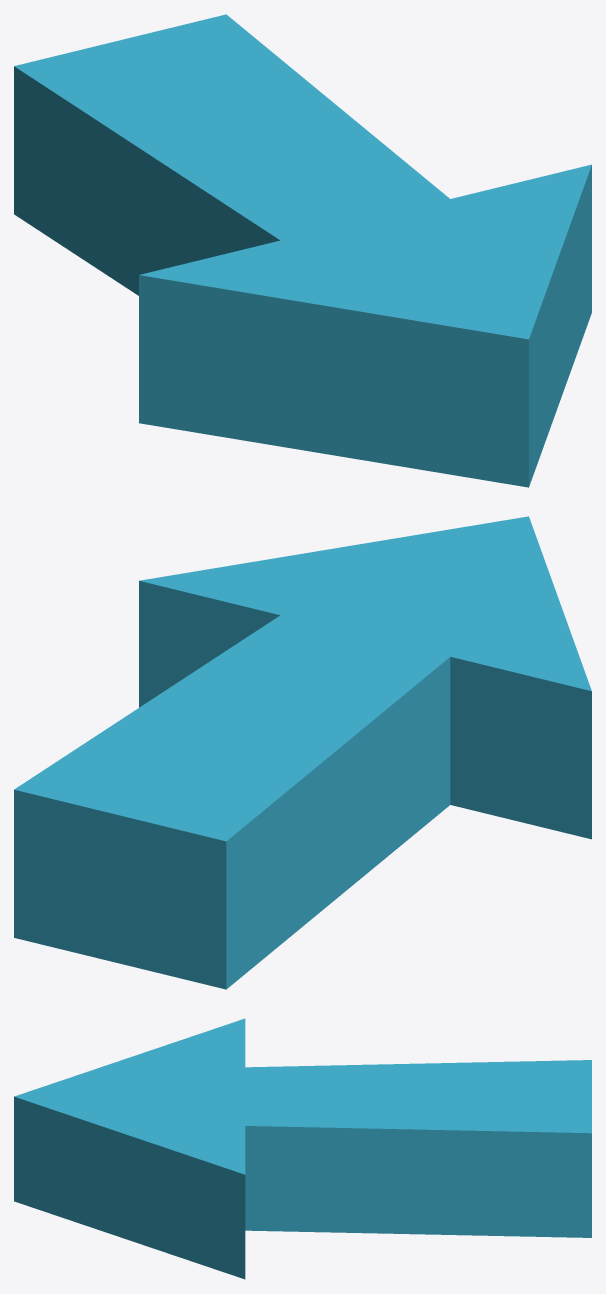
The model's file is allow.fbx.
3 views of the same model, one above another, from view 1: azimuth 30°, elevation 25°; view 2: azimuth 150°, elevation 25°; view 3: azimuth 270°, elevation 25° (orthographic). The views are drawn at different scales.
Visible parts, largest first — view 1: Body1; view 2: Body1; view 3: Body1.
Boxes of the visible parts, left/top/right/bottom form: Body1: left=14, top=14, right=591, bottom=487; Body1: left=14, top=516, right=591, bottom=989; Body1: left=14, top=1018, right=591, bottom=1279.
Bounding box in the file's own units: 32 × 10 × 50.
